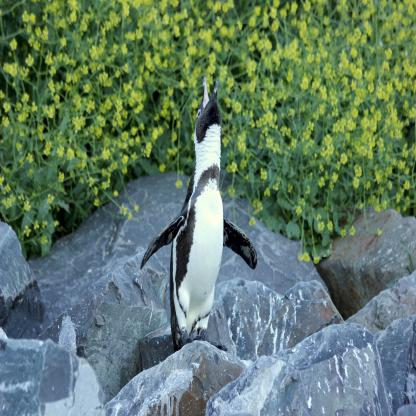Penguin: (137, 68, 270, 362)
